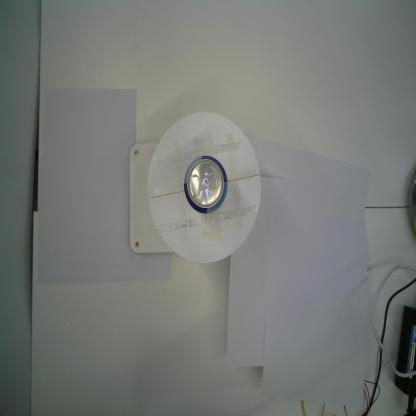Alcohol: (183, 154, 229, 218)
